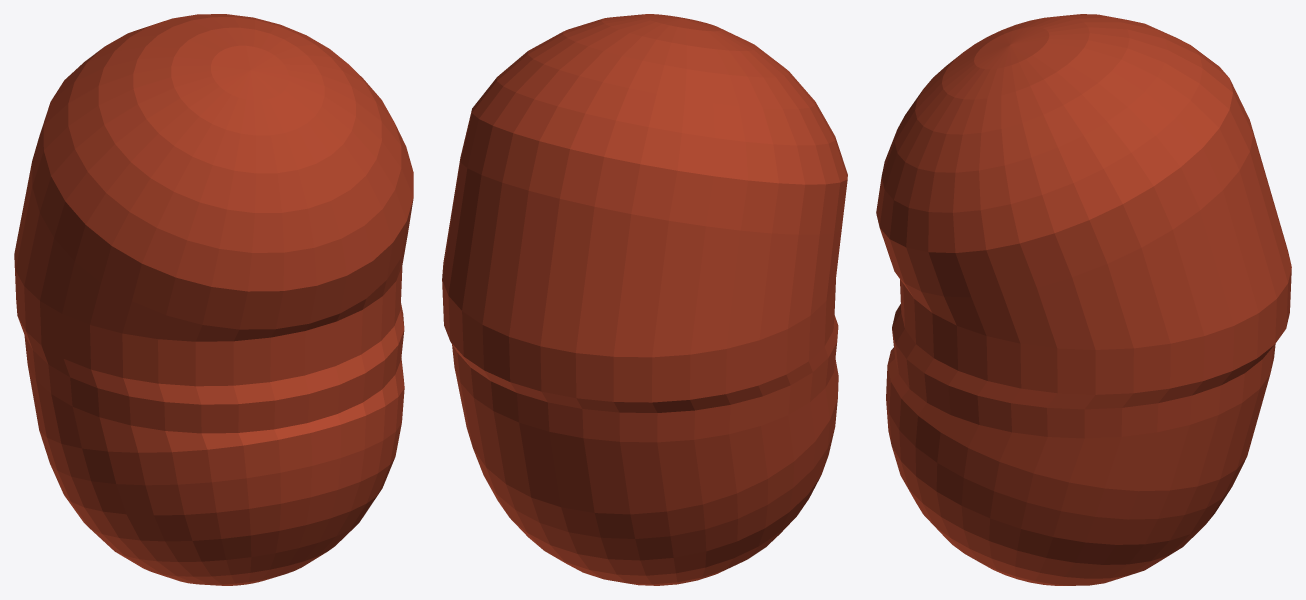
Rendered from coffe.glb.
3 renders of one model, left to right at view 1: azimuth 30°, elevation 25°; view 2: azimuth 150°, elevation 25°; view 3: azimuth 270°, elevation 25°, orthographic.
Visible parts, largest first — view 1: Sphere.001; view 2: Sphere.001; view 3: Sphere.001.
Boxes of the visible parts, x1,y1,x2,y2 form: Sphere.001: (14, 14, 413, 585); Sphere.001: (442, 14, 847, 585); Sphere.001: (876, 14, 1291, 585).
Size of the model in its own units: 13.71 by 20.67 by 14.52.
